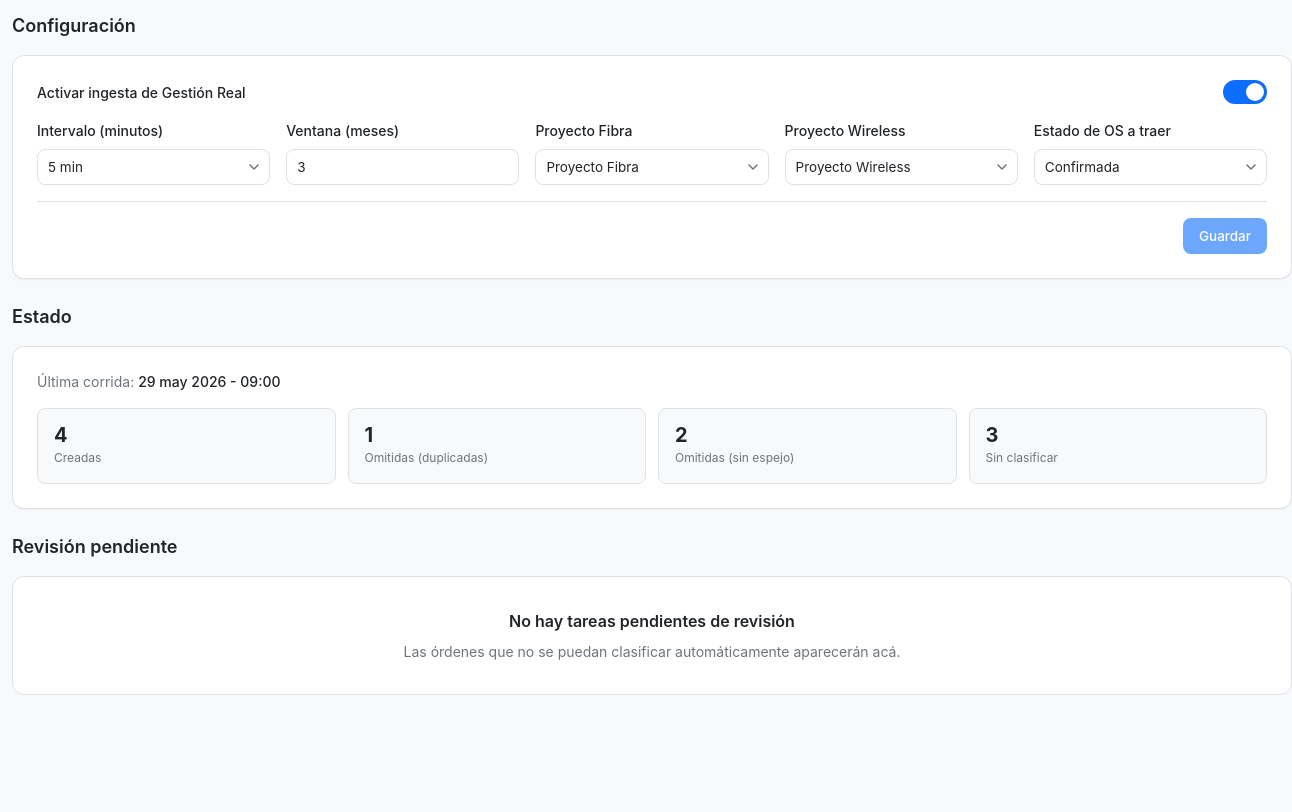
Test: GestionRealBody › Configuración › editing a field enables Guardar
The width and height of the screenshot is (1292, 812).
Replace the text in the number field labelled "Ventana (meses)" with "9": coordinates (403, 167) [286,149,519,185]
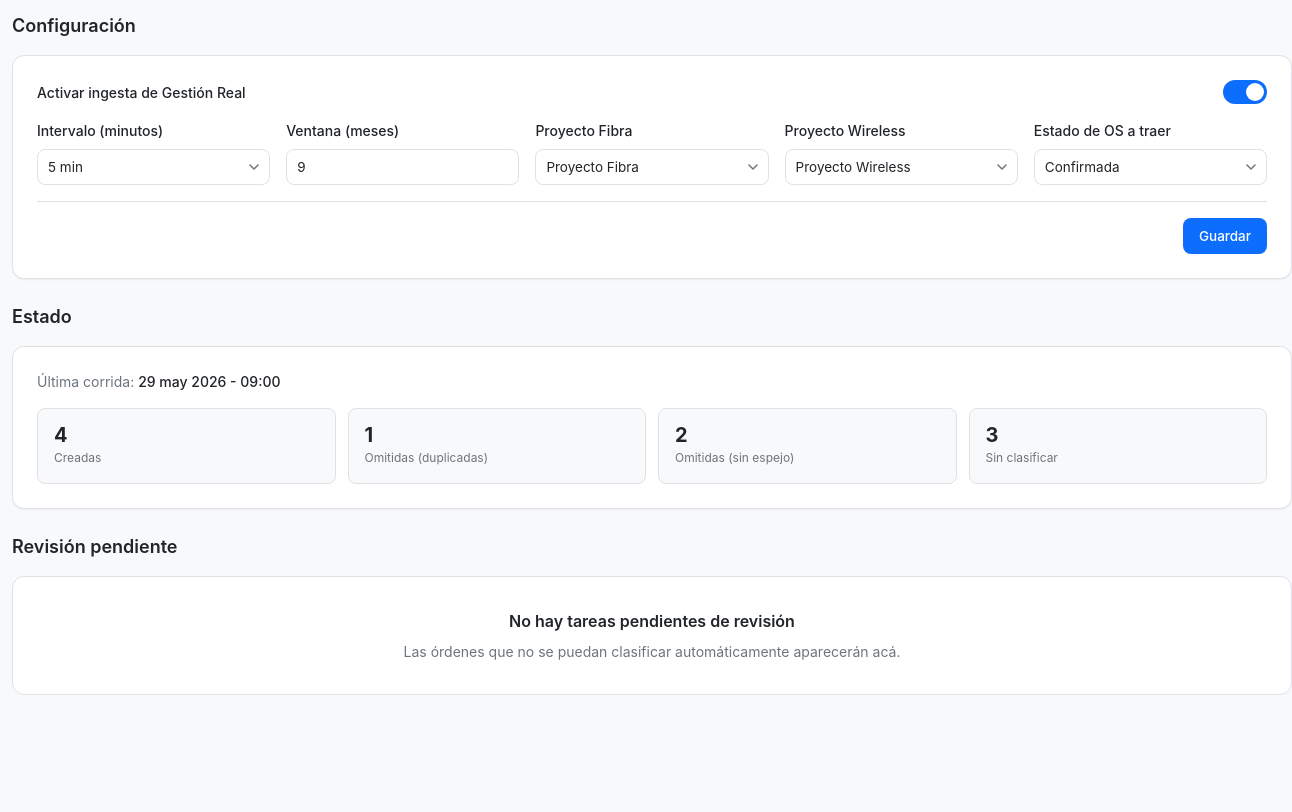
Expected: the button "Guardar" is enabled, [1183,218,1267,254]
